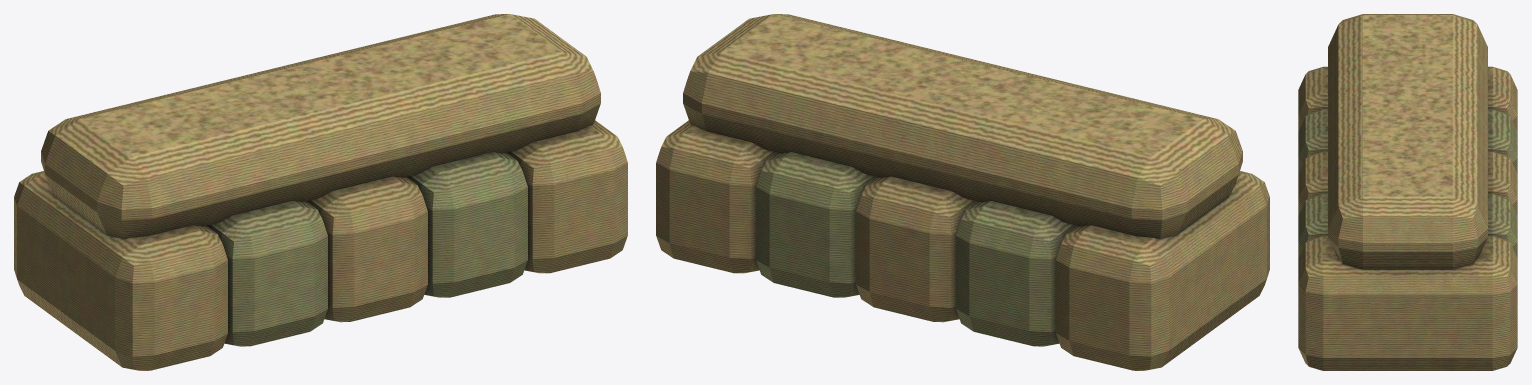
The model's file is fodderstack.glb.
3 renders of one model, left to right at view 1: azimuth 30°, elevation 25°; view 2: azimuth 150°, elevation 25°; view 3: azimuth 270°, elevation 25°, orthographic. The views are drawn at different scales.
Visible parts, largest first — view 1: fodderstack; view 2: fodderstack; view 3: fodderstack.
Part boxes in pixels (bbox=[...]): fodderstack: bbox=[14, 14, 627, 370]; fodderstack: bbox=[656, 14, 1269, 370]; fodderstack: bbox=[1298, 14, 1517, 370].
Bounding box in the file's own units: 5.1 × 1.85 × 2.2.
1 material, 1 textured.
